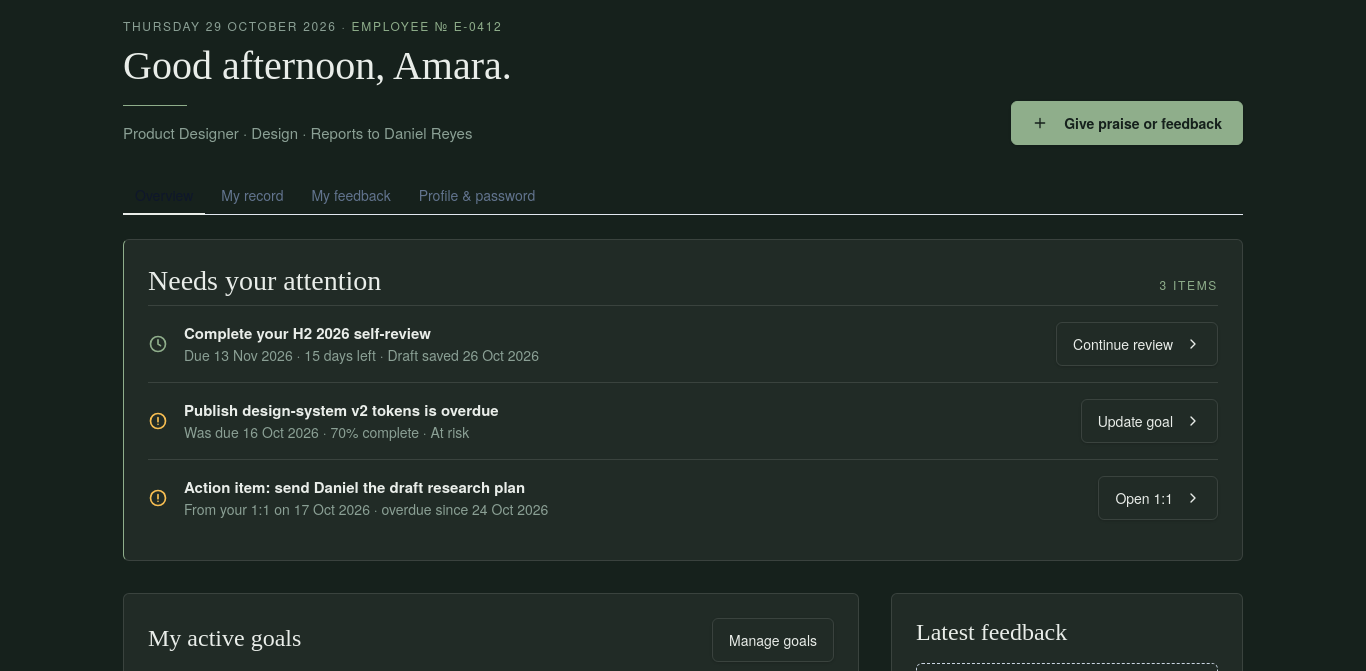
Praise composer › [AC-079] shows the API's messages beside an empty message and missing recipient
Click the button "Give praise or feedback". click: (1127, 122)
box: [1011, 100, 1243, 144]
(page scrolled)
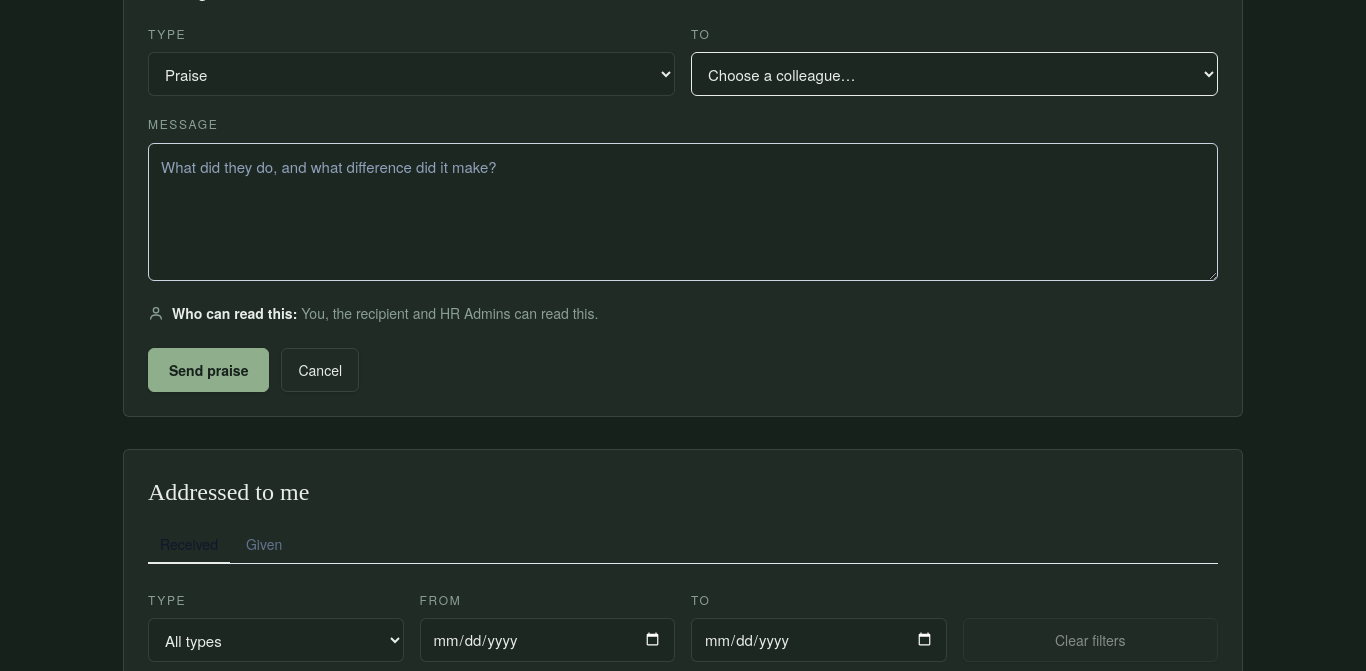
Click the button "Send praise". click: (209, 370)
box: [148, 348, 270, 392]
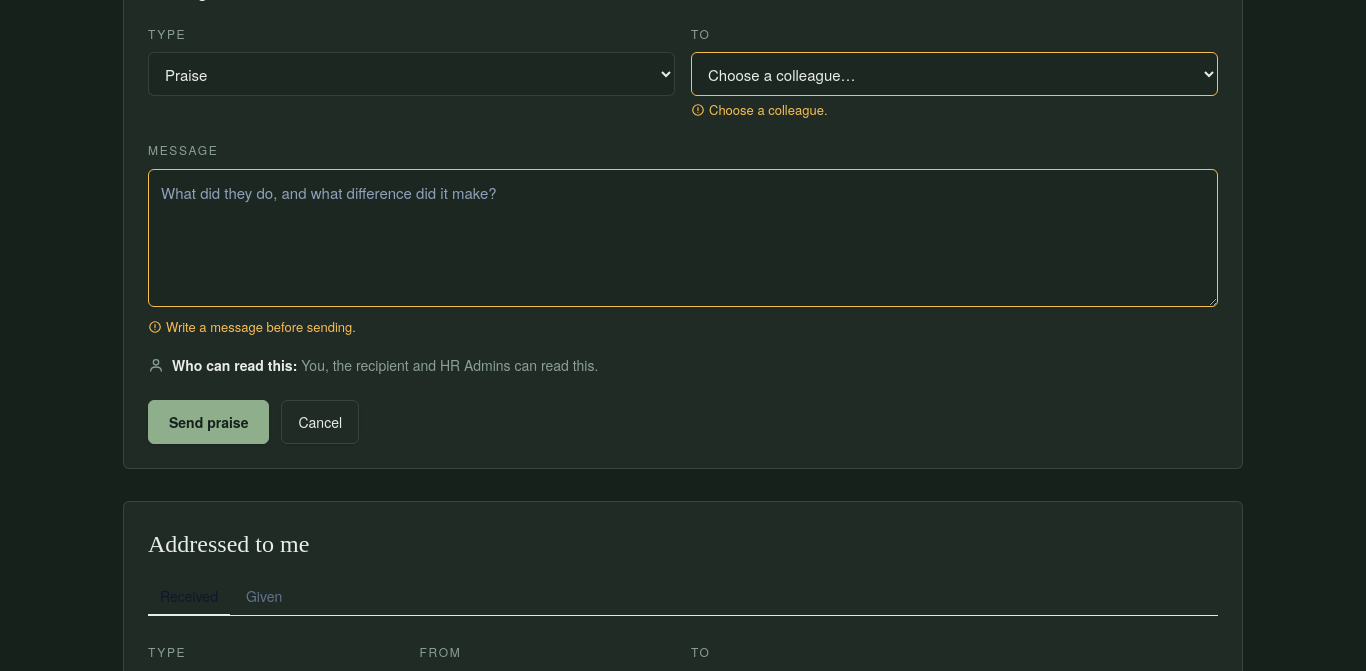
Now the text "Choose a colleague." is shown, box [691, 100, 828, 120]
Now the text "Write a message before sending." is shown, box [148, 317, 356, 336]
